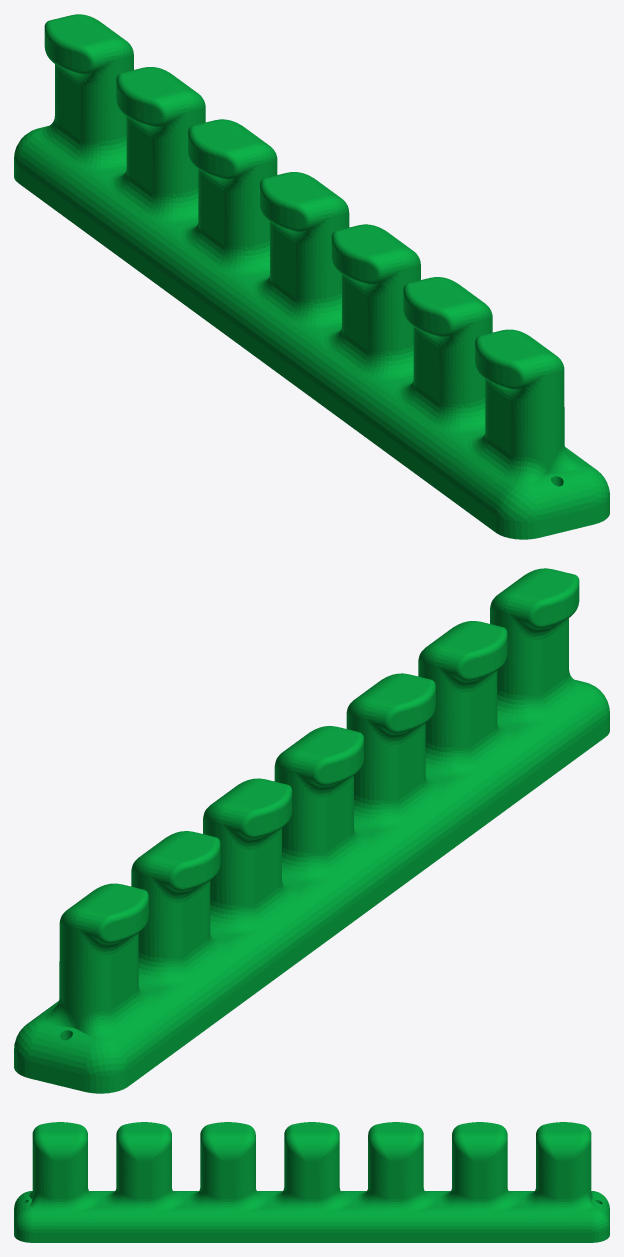
The picture shows the model from 3 angles, top to bottom: view 1: azimuth 30°, elevation 25°; view 2: azimuth 150°, elevation 25°; view 3: azimuth 270°, elevation 25°; orthographic projection. The views are drawn at different scales.
Parts seen in each view (by area): view 1: key_hooks.stl_fil1; view 2: key_hooks.stl_fil1; view 3: key_hooks.stl_fil1.
Boxes of the visible parts, box(x1,y1,x2,y2) form: key_hooks.stl_fil1: box(14, 14, 609, 539); key_hooks.stl_fil1: box(14, 568, 609, 1093); key_hooks.stl_fil1: box(14, 1122, 609, 1242).
Bounding box in the file's own units: 0.02 × 0.028 × 0.161.
